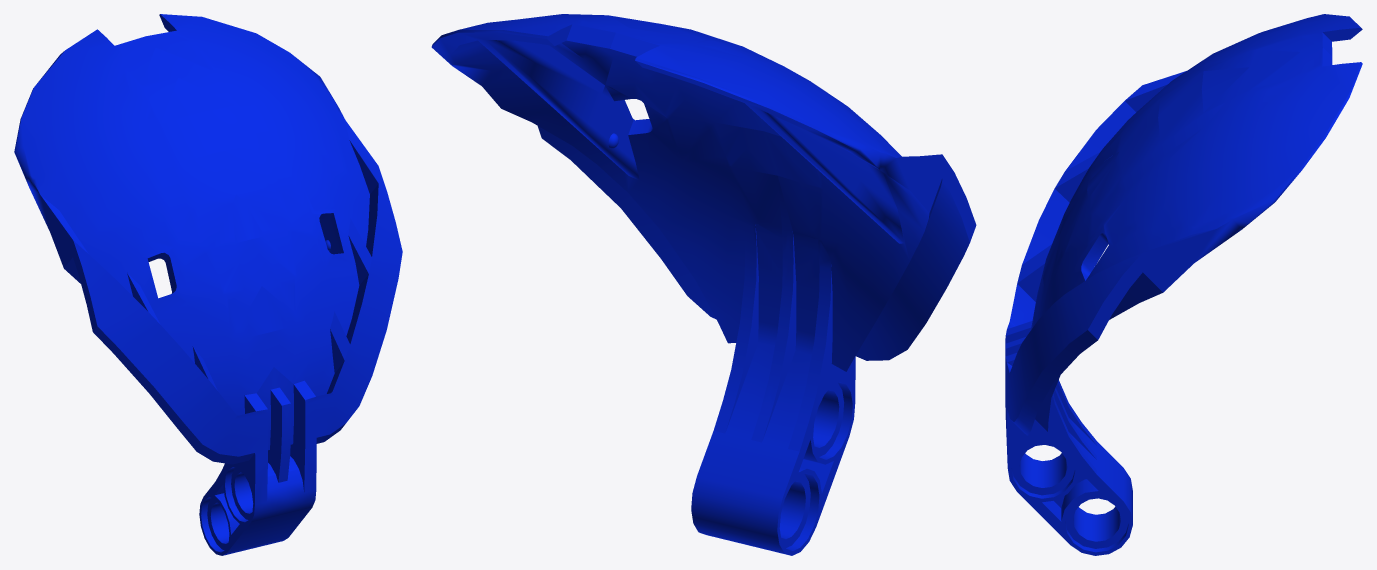
File: bionicle_bohrok_windscreen_41671.glb
3 renders of one model, left to right at view 1: azimuth 30°, elevation 25°; view 2: azimuth 150°, elevation 25°; view 3: azimuth 270°, elevation 25°, orthographic. The views are drawn at different scales.
Visible parts, largest first — view 1: 00001_41671.dat; view 2: 00001_41671.dat; view 3: 00001_41671.dat.
Part boxes in pixels (x1,y1,x2,y2): 00001_41671.dat: (14, 14, 402, 555); 00001_41671.dat: (431, 14, 976, 555); 00001_41671.dat: (1005, 14, 1362, 555).
Size of the model in its own units: 1.41 by 1.94 by 1.27.
